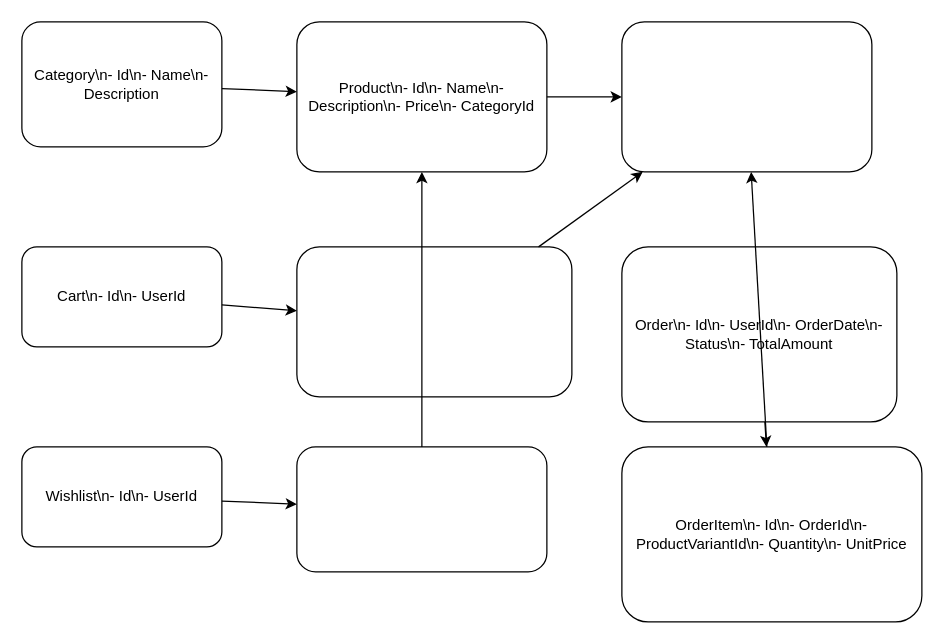
Image size: 944x644. Some labels were removed from this diagram. The shapes that lost their labels are listed below. From the top down, each one's centre as x and y in pixels, then its label:
At (x=746, y=96): "ProductVariant\n- Id\n- Color\n- Size\n- Stock\n- ProductId".
At (x=434, y=321): "CartItem\n- Id\n- Quantity\n- CartId\n- ProductVariantId".
At (x=421, y=509): "WishlistItem\n- Id\n- WishlistId\n- ProductId".
